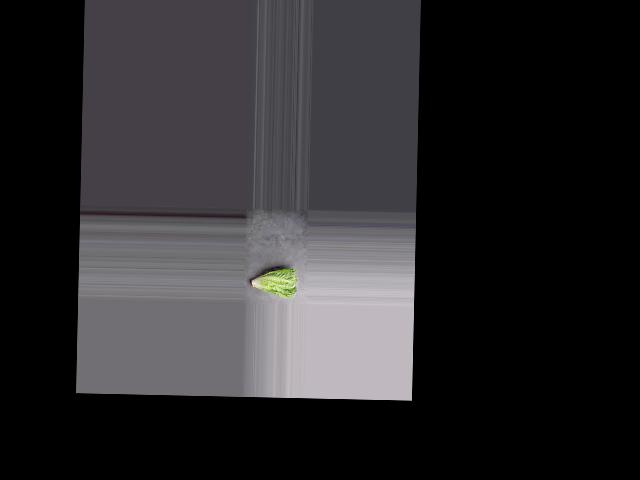lettuce: (247, 266, 297, 299)
